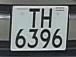3: (27, 29, 40, 50)
6: (14, 28, 27, 50), (51, 27, 64, 49)
9: (39, 29, 52, 50)
H: (40, 6, 54, 31)
T: (26, 6, 41, 31)
